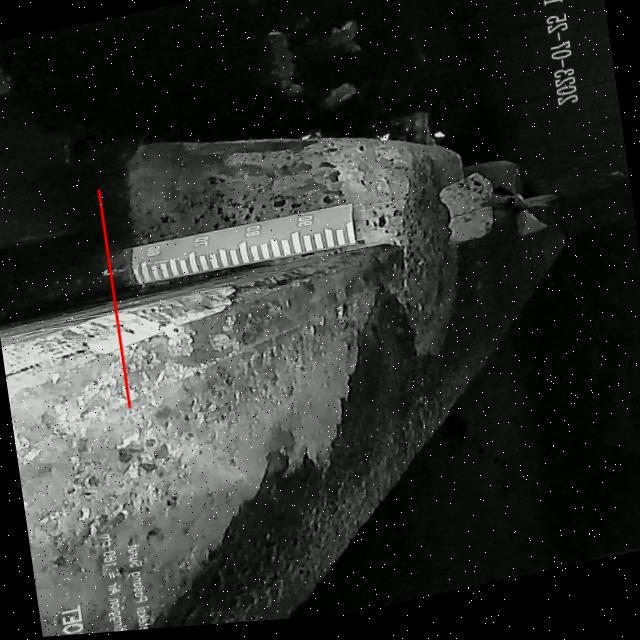water-meter: (98, 191, 375, 303)
